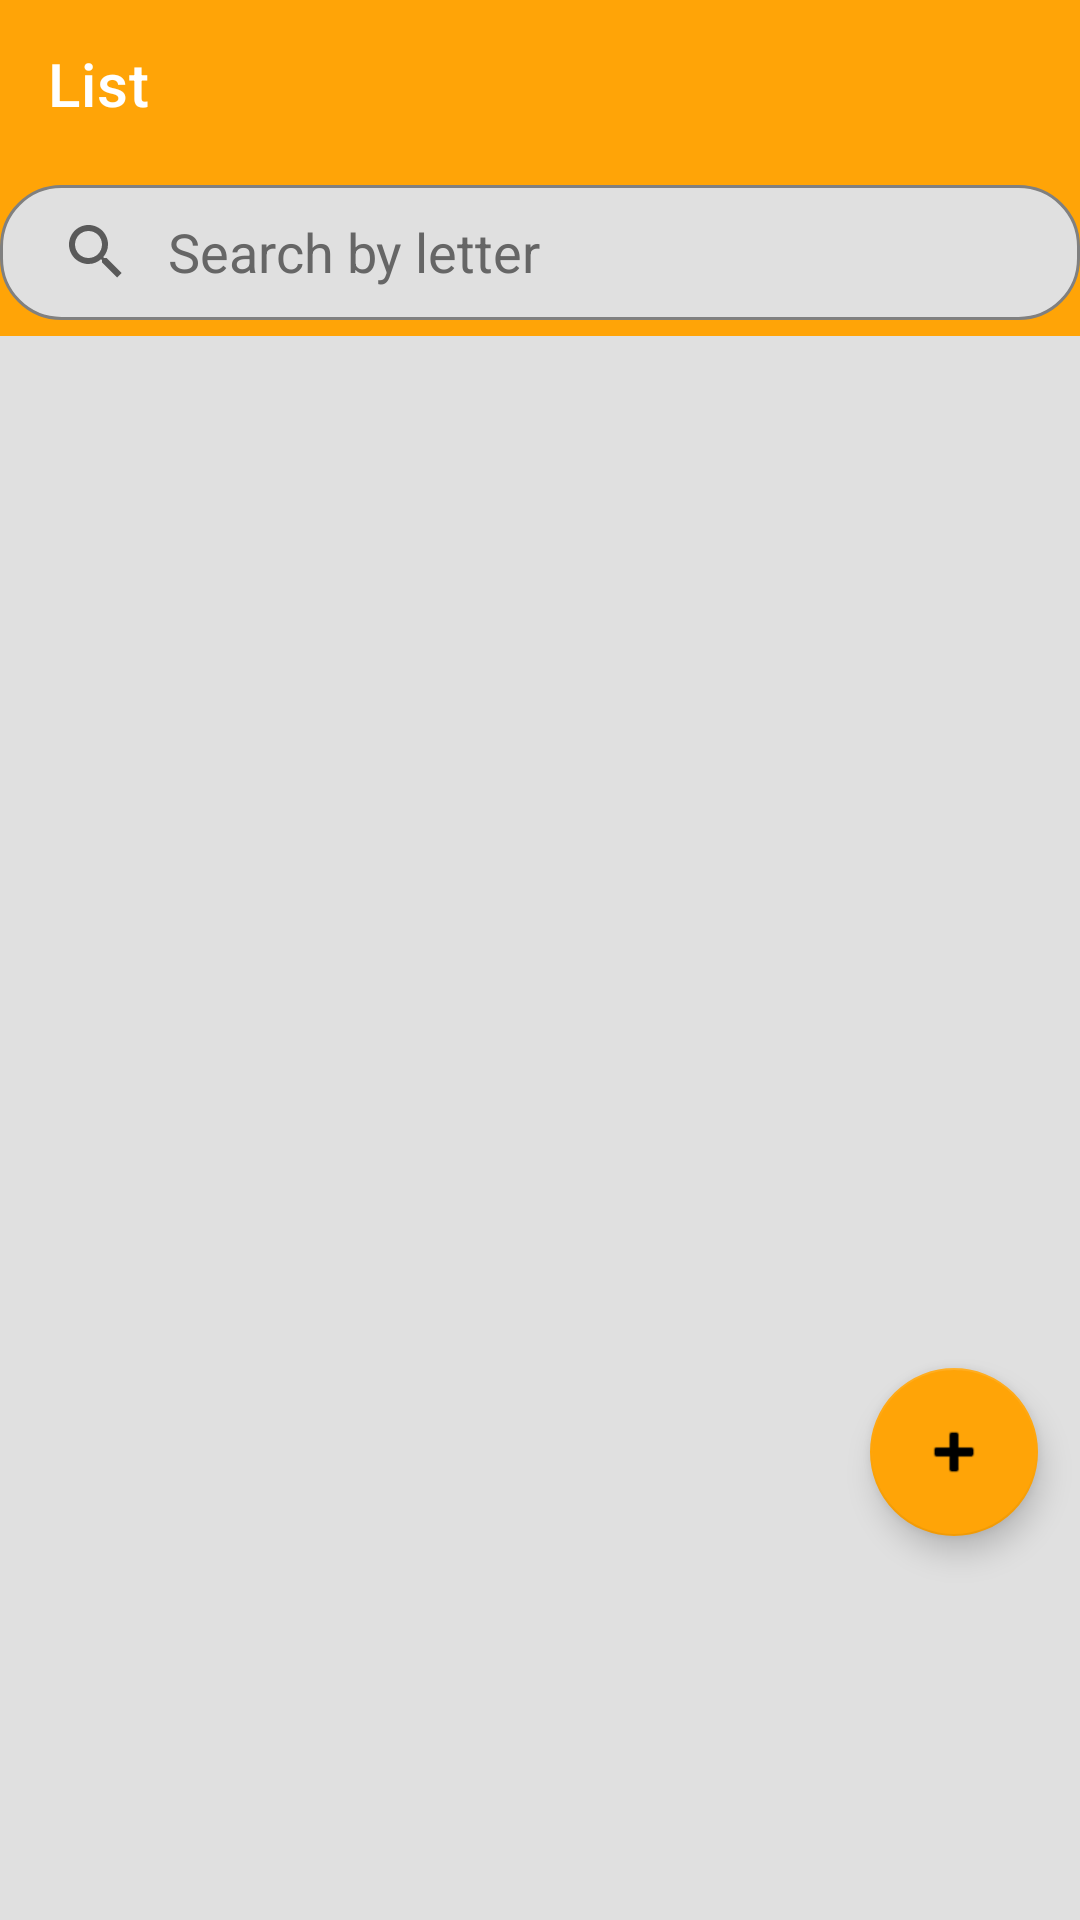

Screen size 1080 × 1920. Icon name, then its box in pixels as (x1, y1, x2, y2):
add: (870, 1368, 1038, 1536)
